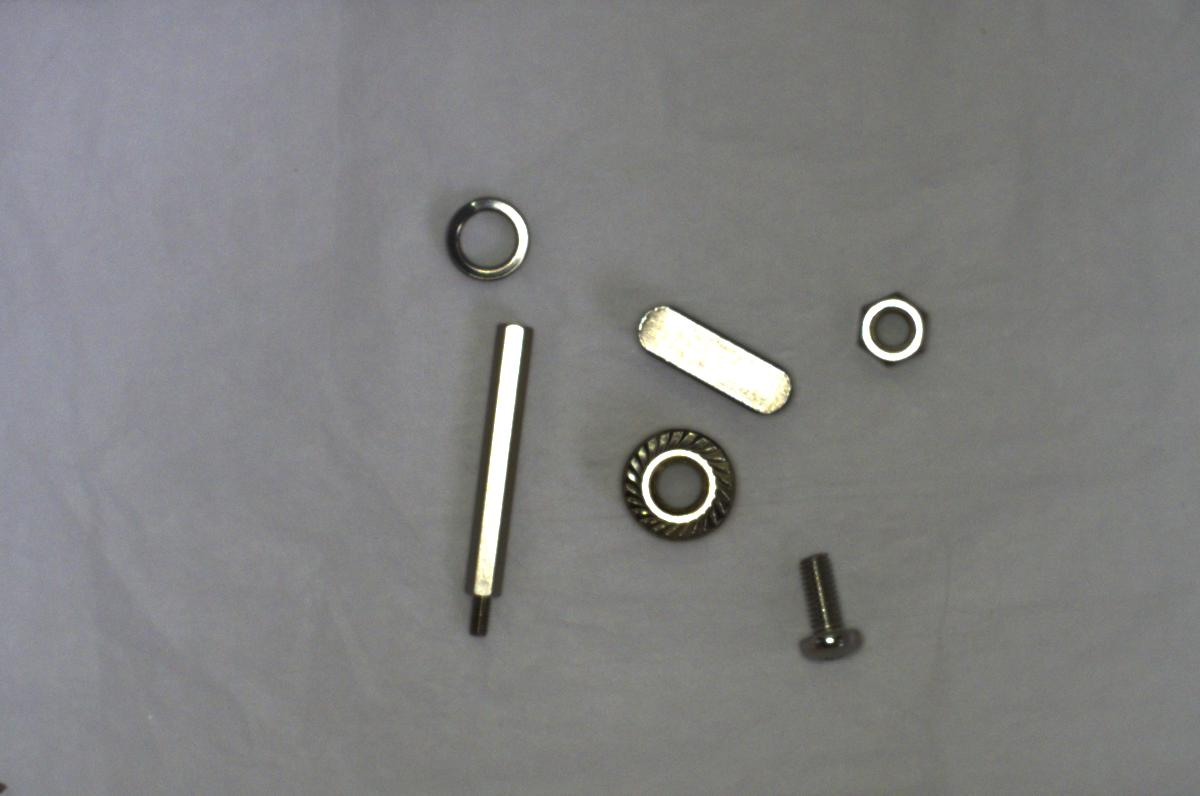Flange nut: (611, 416, 738, 548)
Hexagon nut: (851, 286, 937, 376)
Hexagonal steel column: (454, 314, 525, 643)
Keybar: (621, 299, 800, 421)
Round head screw: (784, 541, 867, 665)
Spring washer: (435, 189, 534, 286)
